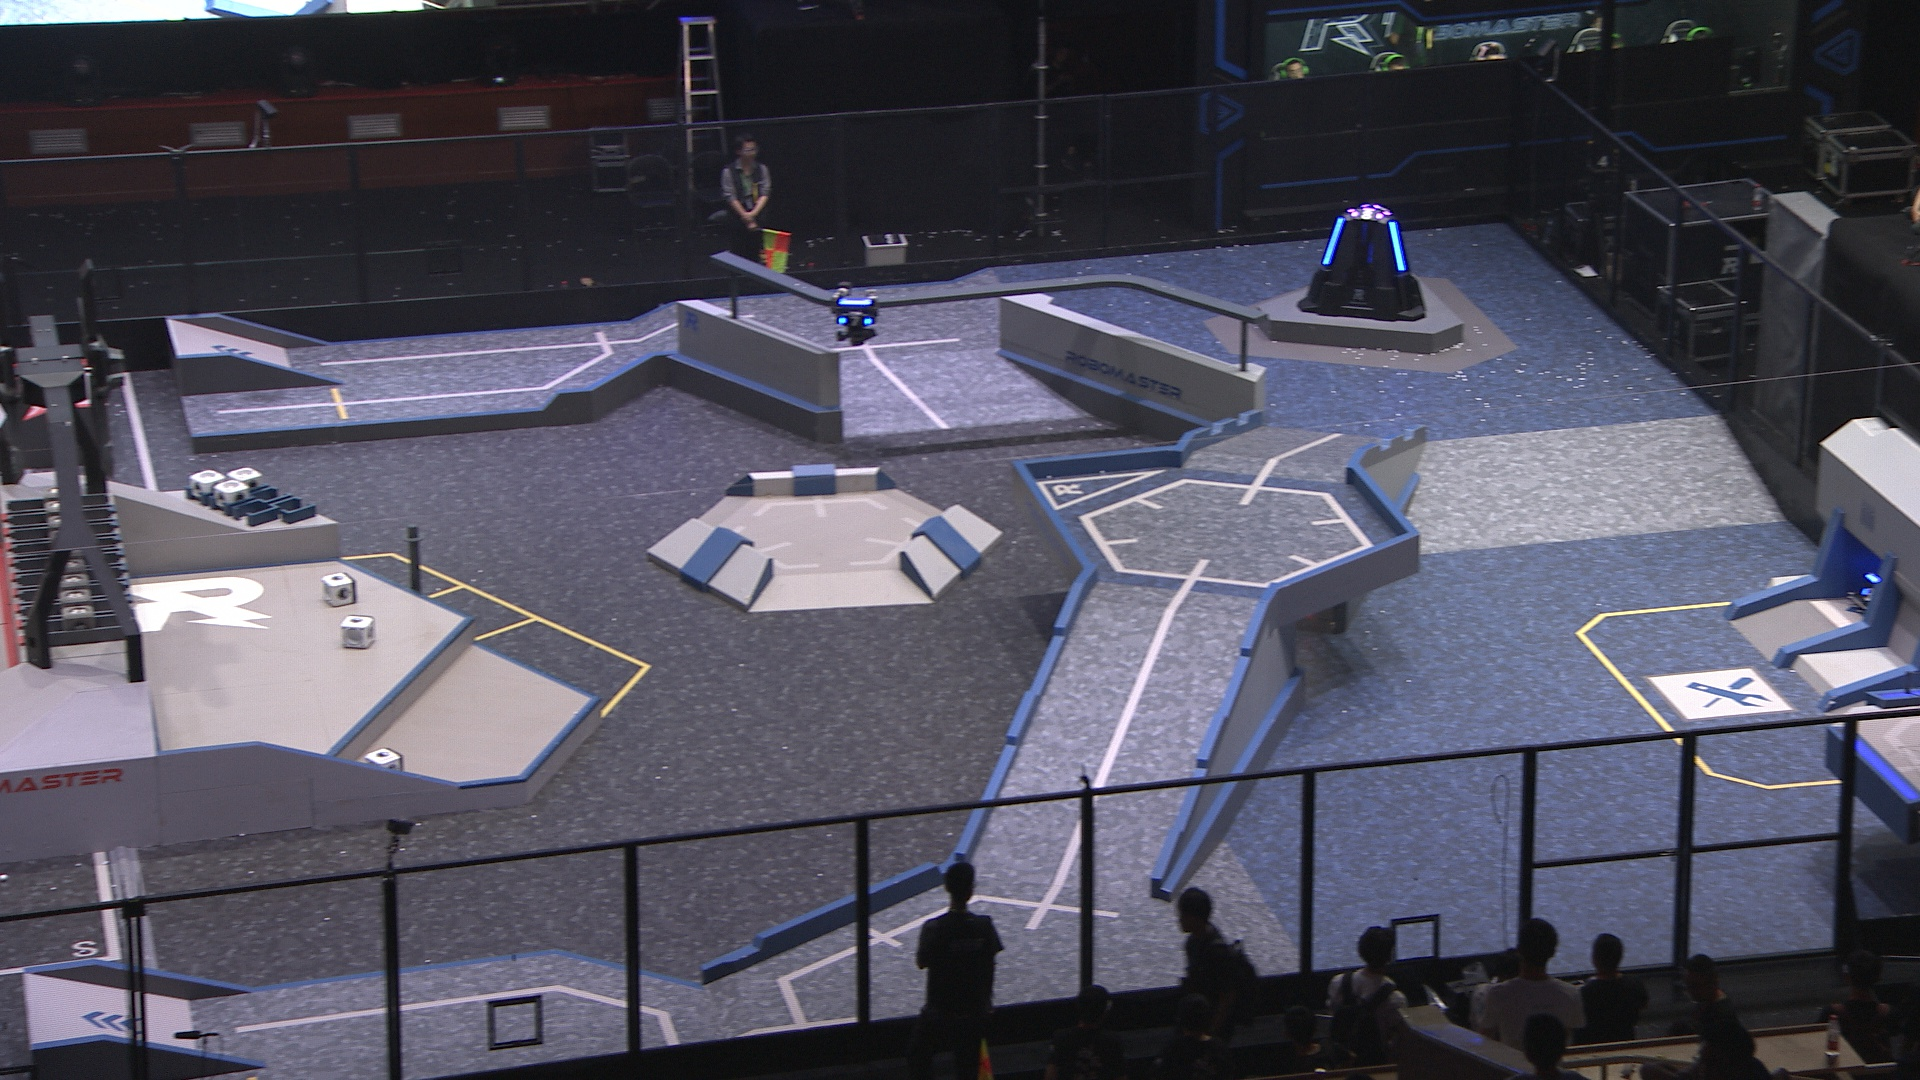armor: (1319, 216, 1342, 264), (1385, 220, 1406, 272), (836, 313, 873, 328), (1859, 584, 1874, 603)
base: (1296, 199, 1429, 320)
car: (1841, 556, 1913, 632)
ignore: (1346, 207, 1385, 224)
watcher: (828, 282, 882, 348)
